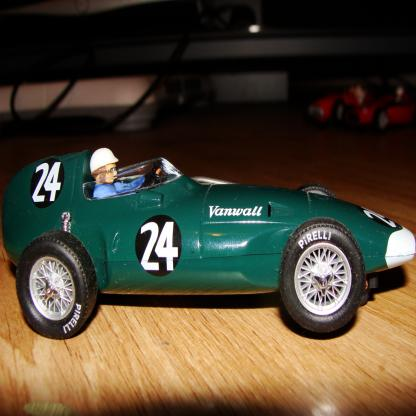Car: (4, 152, 416, 341), (350, 84, 414, 131), (312, 88, 371, 121)
